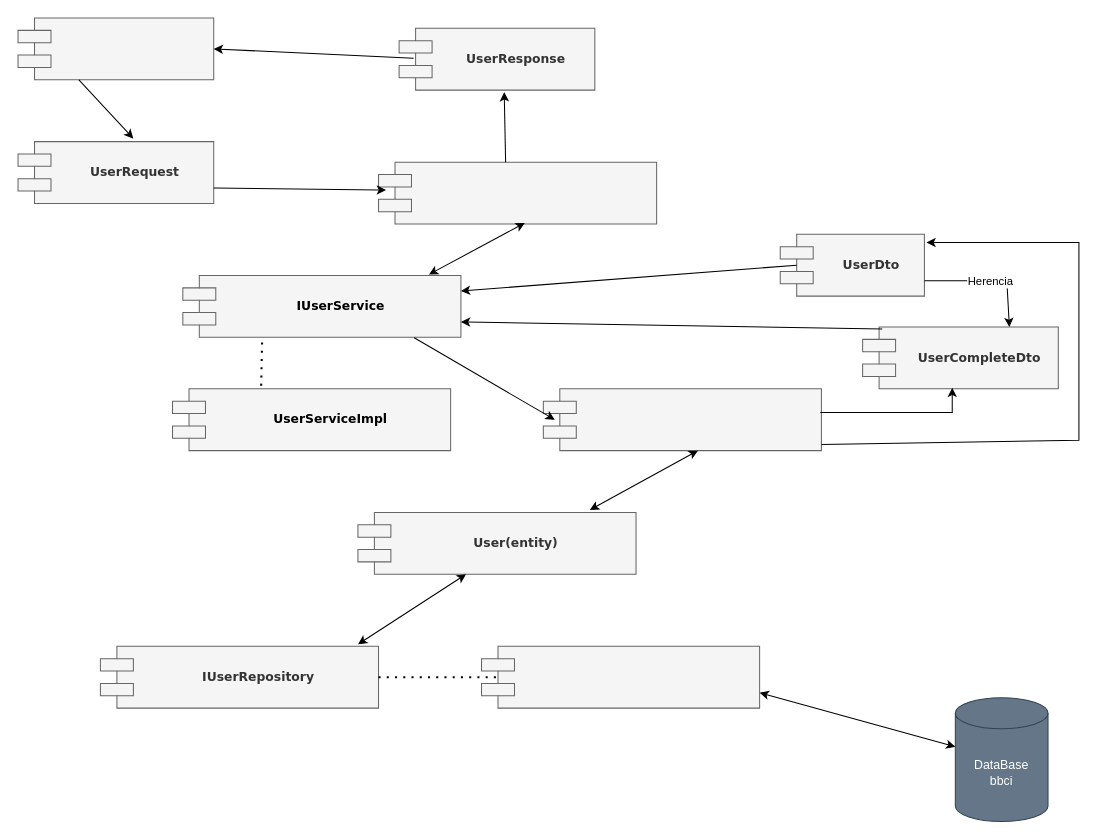
The diagram is 1105 pixels wide and 839 high, and some of its shapes have lost their labels. The shapes that lost their labels are listed below. From the top down, each one's box as (x1, y1, x2, y2) in pixels, then its label:
(17, 17, 214, 80): Cliente
(377, 161, 657, 224): UserController
(542, 388, 821, 451): Mapper
(480, 645, 760, 708): UserRepositoryImpl
